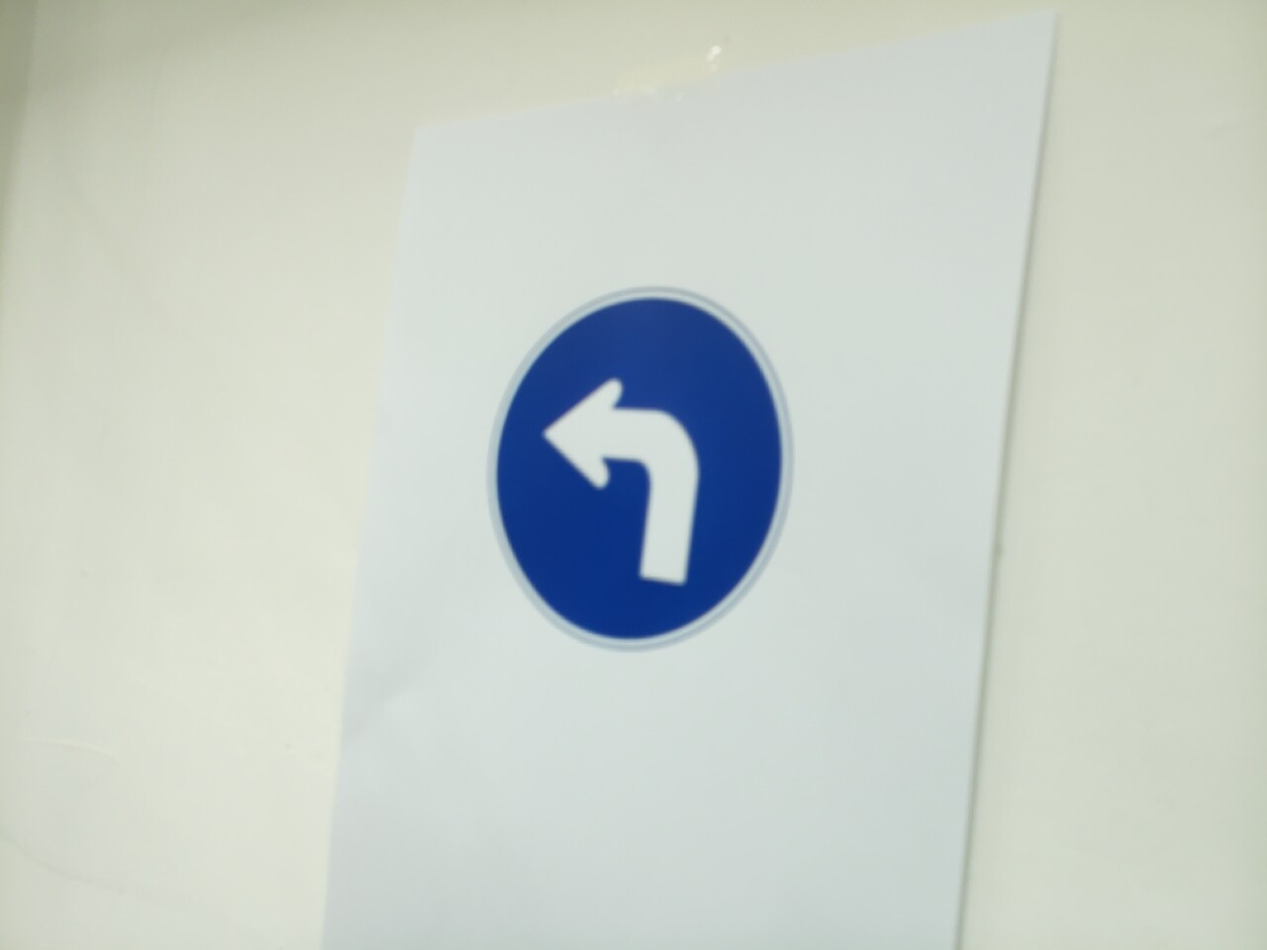left_turn: (488, 287, 791, 650)
